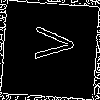V: (25, 24, 75, 62)
